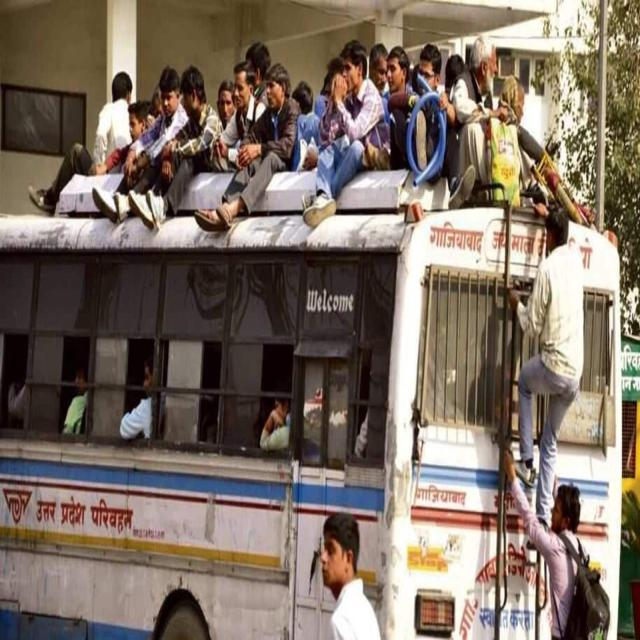bus: (0, 171, 550, 638)
